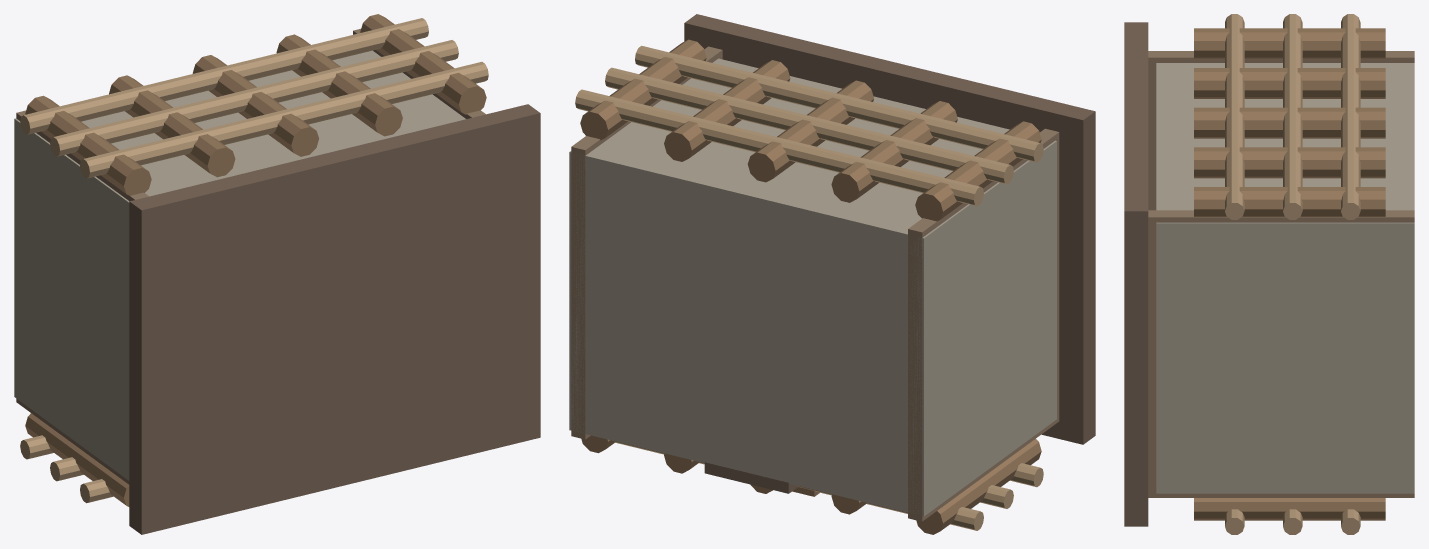
The model's file is SM_TimberHut.glb.
3 views of the same model, side by side, from view 1: azimuth 30°, elevation 25°; view 2: azimuth 150°, elevation 25°; view 3: azimuth 270°, elevation 25° (orthographic). The views are drawn at different scales.
Parts seen in each view (by area): view 1: SM_TimberHut_003, SM_TimberHut_004, SM_TimberHut_019, SM_TimberHut_018, SM_TimberHut_020, SM_TimberHut_016, SM_TimberHut_014, SM_TimberHut_015, SM_TimberHut_017, SM_TimberHut_013, SM_TimberHut_005, SM_TimberHut_001; view 2: SM_TimberHut_004, SM_TimberHut_003, SM_TimberHut_019, SM_TimberHut_020, SM_TimberHut_018, SM_TimberHut_001, SM_TimberHut_000, SM_TimberHut_015, SM_TimberHut_016, SM_TimberHut_014, SM_TimberHut_013, SM_TimberHut_017 (+3 smaller); view 3: SM_TimberHut_004, SM_TimberHut_003, SM_TimberHut_000, SM_TimberHut_015, SM_TimberHut_016, SM_TimberHut_013, SM_TimberHut_014, SM_TimberHut_017, SM_TimberHut_009, SM_TimberHut_020, SM_TimberHut_019, SM_TimberHut_018 (+4 smaller).
Boxes of the visible parts, x1,y1,x2,y2 form: SM_TimberHut_003: [129, 104, 540, 534]; SM_TimberHut_004: [14, 50, 465, 480]; SM_TimberHut_019: [50, 40, 458, 156]; SM_TimberHut_018: [20, 18, 428, 134]; SM_TimberHut_020: [80, 61, 488, 178]; SM_TimberHut_016: [276, 34, 402, 136]; SM_TimberHut_014: [109, 75, 235, 177]; SM_TimberHut_015: [192, 55, 318, 156]; SM_TimberHut_017: [360, 14, 486, 114]; SM_TimberHut_013: [25, 95, 151, 195]; SM_TimberHut_005: [25, 413, 129, 506]; SM_TimberHut_001: [16, 110, 148, 484]; SM_TimberHut_004: [569, 58, 1056, 516]; SM_TimberHut_003: [684, 14, 1095, 444]; SM_TimberHut_019: [605, 67, 1013, 184]; SM_TimberHut_020: [635, 45, 1043, 162]; SM_TimberHut_018: [575, 89, 983, 206]; SM_TimberHut_001: [908, 128, 1059, 521]; SM_TimberHut_000: [571, 46, 722, 439]; SM_TimberHut_015: [747, 80, 873, 182]; SM_TimberHut_016: [664, 60, 790, 161]; SM_TimberHut_014: [831, 101, 957, 202]; SM_TimberHut_013: [915, 121, 1041, 221]; SM_TimberHut_017: [580, 39, 706, 140]; SM_TimberHut_004: [1156, 63, 1414, 493]; SM_TimberHut_003: [1124, 22, 1148, 526]; SM_TimberHut_000: [1148, 210, 1414, 497]; SM_TimberHut_015: [1194, 107, 1385, 138]; SM_TimberHut_016: [1194, 147, 1385, 178]; SM_TimberHut_013: [1194, 28, 1385, 58]; SM_TimberHut_014: [1194, 68, 1385, 98]; SM_TimberHut_017: [1194, 187, 1385, 216]; SM_TimberHut_009: [1194, 498, 1385, 520]; SM_TimberHut_020: [1225, 14, 1244, 219]; SM_TimberHut_019: [1283, 14, 1302, 219]; SM_TimberHut_018: [1341, 14, 1360, 219].
Size of the model in its own units: 4.5 by 3.74 by 2.92.
